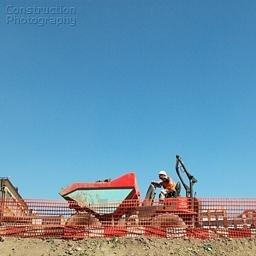hat: (154, 167, 170, 184)
vest: (161, 178, 180, 197)
